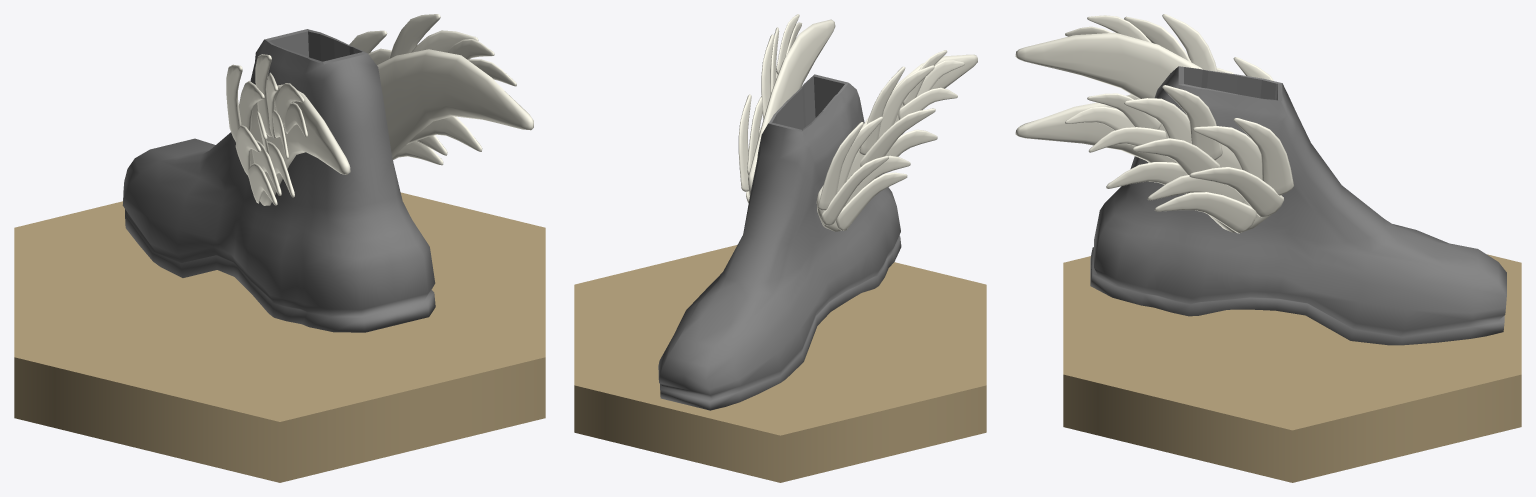
File: HexBoost.fbx
3 views of the same model, side by side, from view 1: azimuth 30°, elevation 25°; view 2: azimuth 150°, elevation 25°; view 3: azimuth 270°, elevation 25° (orthographic). The views are drawn at different scales.
Parts seen in each view (by area): view 1: Hex, Shoe, Wings; view 2: Hex, Shoe, Wings; view 3: Hex, Shoe, Wings.
Boxes of the visible parts, left/top/right/bottom form: Hex: left=14, top=192, right=545, bottom=482; Shoe: left=122, top=29, right=435, bottom=332; Wings: left=226, top=14, right=533, bottom=205; Hex: left=574, top=245, right=986, bottom=482; Shoe: left=658, top=74, right=901, bottom=410; Wings: left=738, top=14, right=977, bottom=231; Hex: left=1063, top=254, right=1521, bottom=482; Shoe: left=1090, top=66, right=1506, bottom=345; Wings: left=1015, top=14, right=1293, bottom=233.
Bounding box in the file's own units: 4.56 × 3.06 × 4.36.
